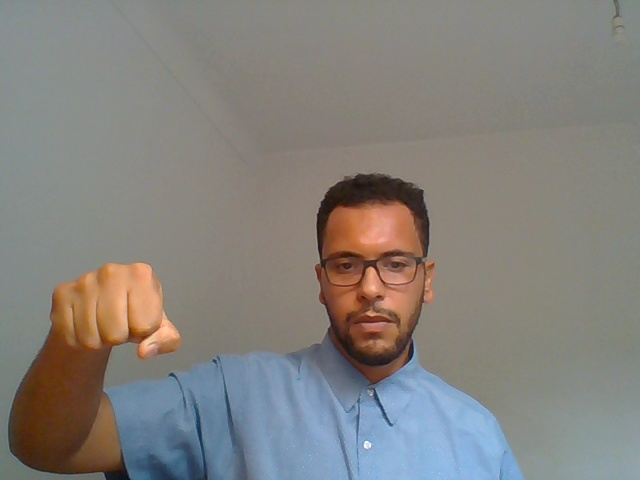yes: (28, 230, 191, 402)
